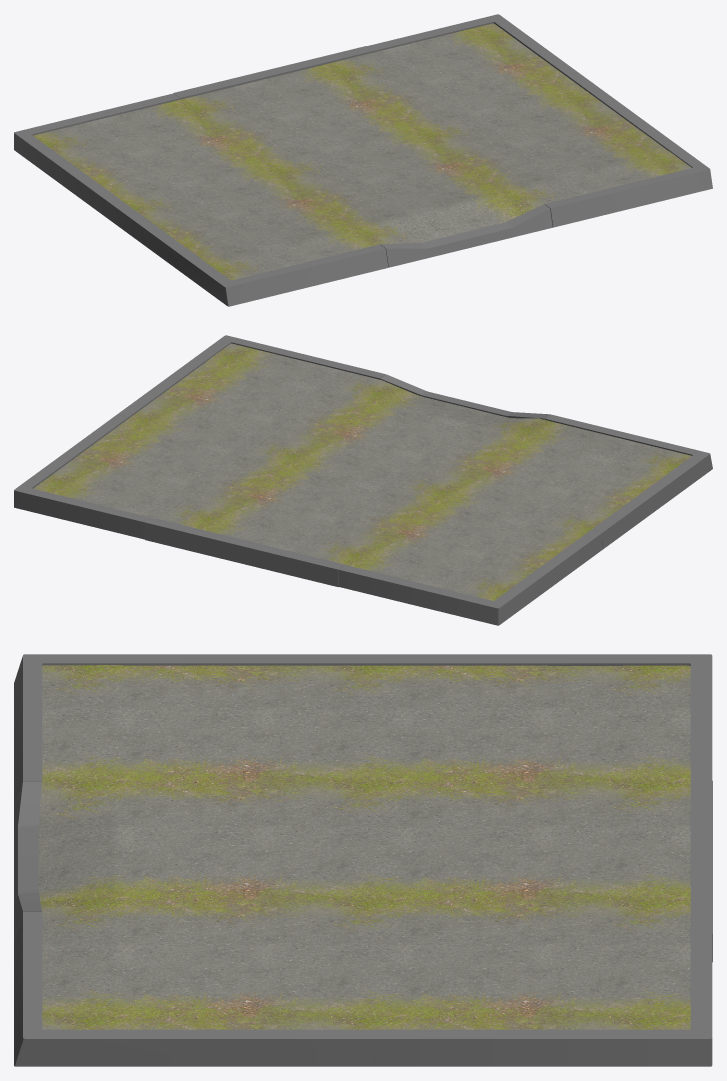
The model's file is SM_sidewalk_01.fbx.
3 renders of one model, top to bottom at view 1: azimuth 30°, elevation 25°; view 2: azimuth 150°, elevation 25°; view 3: azimuth 270°, elevation 25°, orthographic. The views are drawn at different scales.
Parts seen in each view (by area): view 1: Box007; view 2: Box007; view 3: Box007.
Boxes of the visible parts, x1,y1,x2,y2 form: Box007: [14, 14, 712, 306]; Box007: [14, 335, 712, 625]; Box007: [14, 654, 712, 1066].
Bounding box in the file's own units: 408 × 14.14 × 313.
